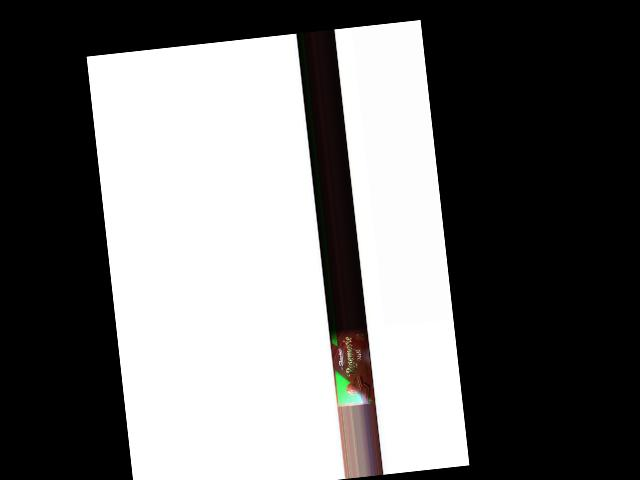chocolate: (330, 325, 375, 406)
